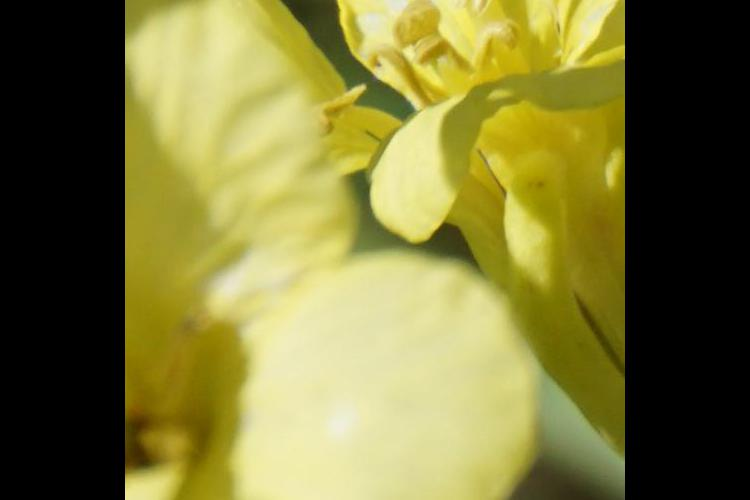yellow: (132, 1, 500, 500), (329, 1, 626, 463)
